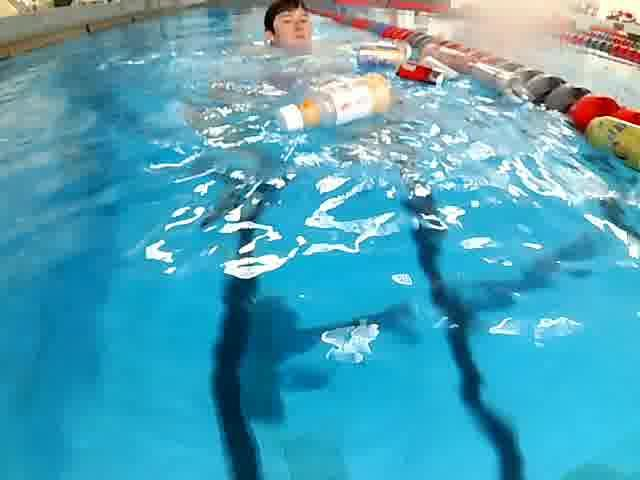Bottle: (253, 70, 412, 135)
Can: (471, 51, 531, 112), (396, 58, 452, 92), (350, 41, 413, 69), (419, 51, 466, 86)
